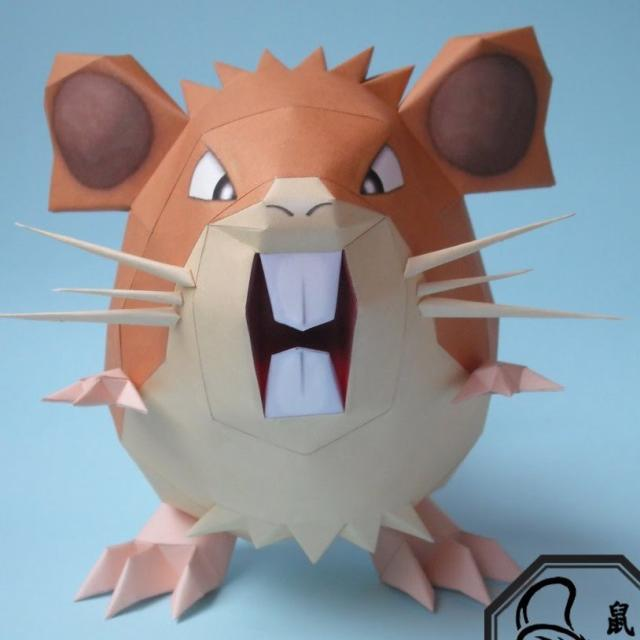Raticate: (67, 49, 530, 596)
